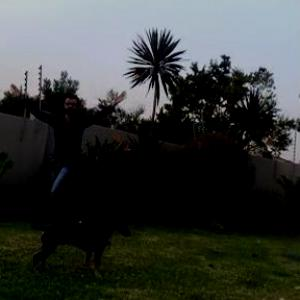takeoff: (9, 79, 120, 204)
